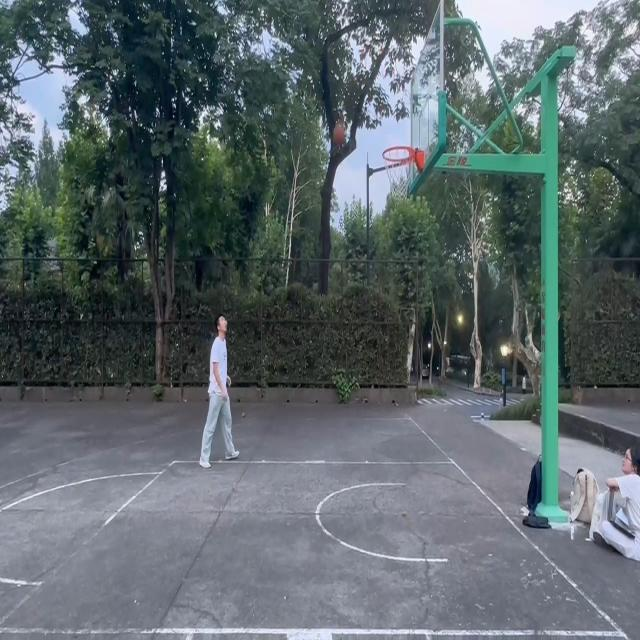basketball: (383, 147, 426, 200)
rim: (332, 122, 348, 146)
